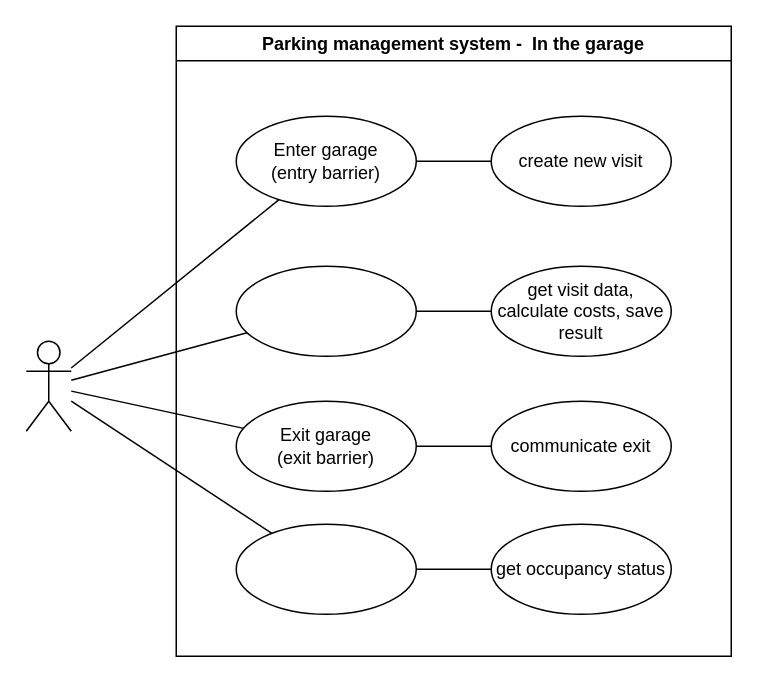
This 758x683 diagram has some shape labels left out. The centre of each missing label's shape, as x and y in pixels:
"Pay for the visit (terminal)" goes at (x=325, y=310).
"See occupancy (occupancy signs)" goes at (x=325, y=568).
"visitor" goes at (x=48, y=385).
